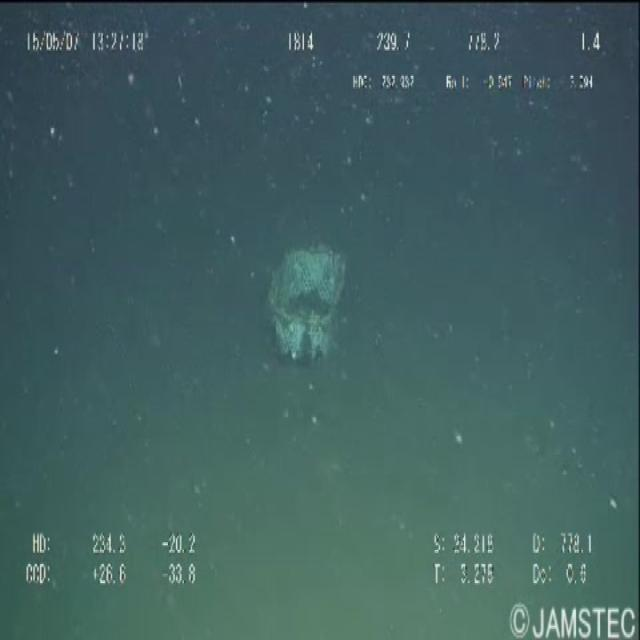Litter: (265, 235, 367, 399)
